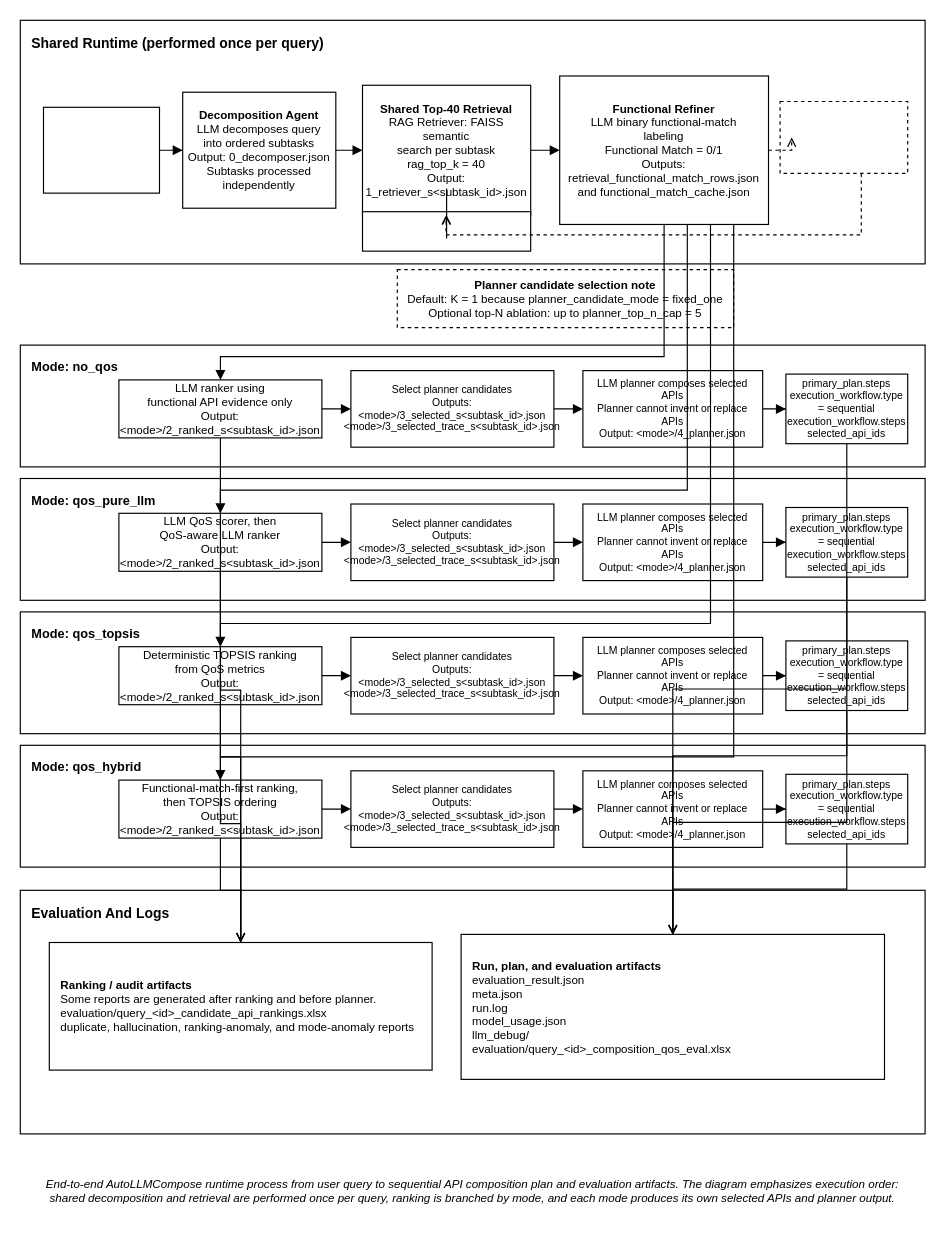
Image size: 945x1245. Some labels were removed from this diagram. Each missing label, with the centre of its shape:
"FAISS index + API catalog Shared retrieval data store" goes at point (446, 231).
"If zero positive matches, recheck / optional retrieval retry" goes at point (843, 136).
"User Query Input query / goal CLI or data/queries/ all_user_query.jsonl" goes at point (101, 149).
